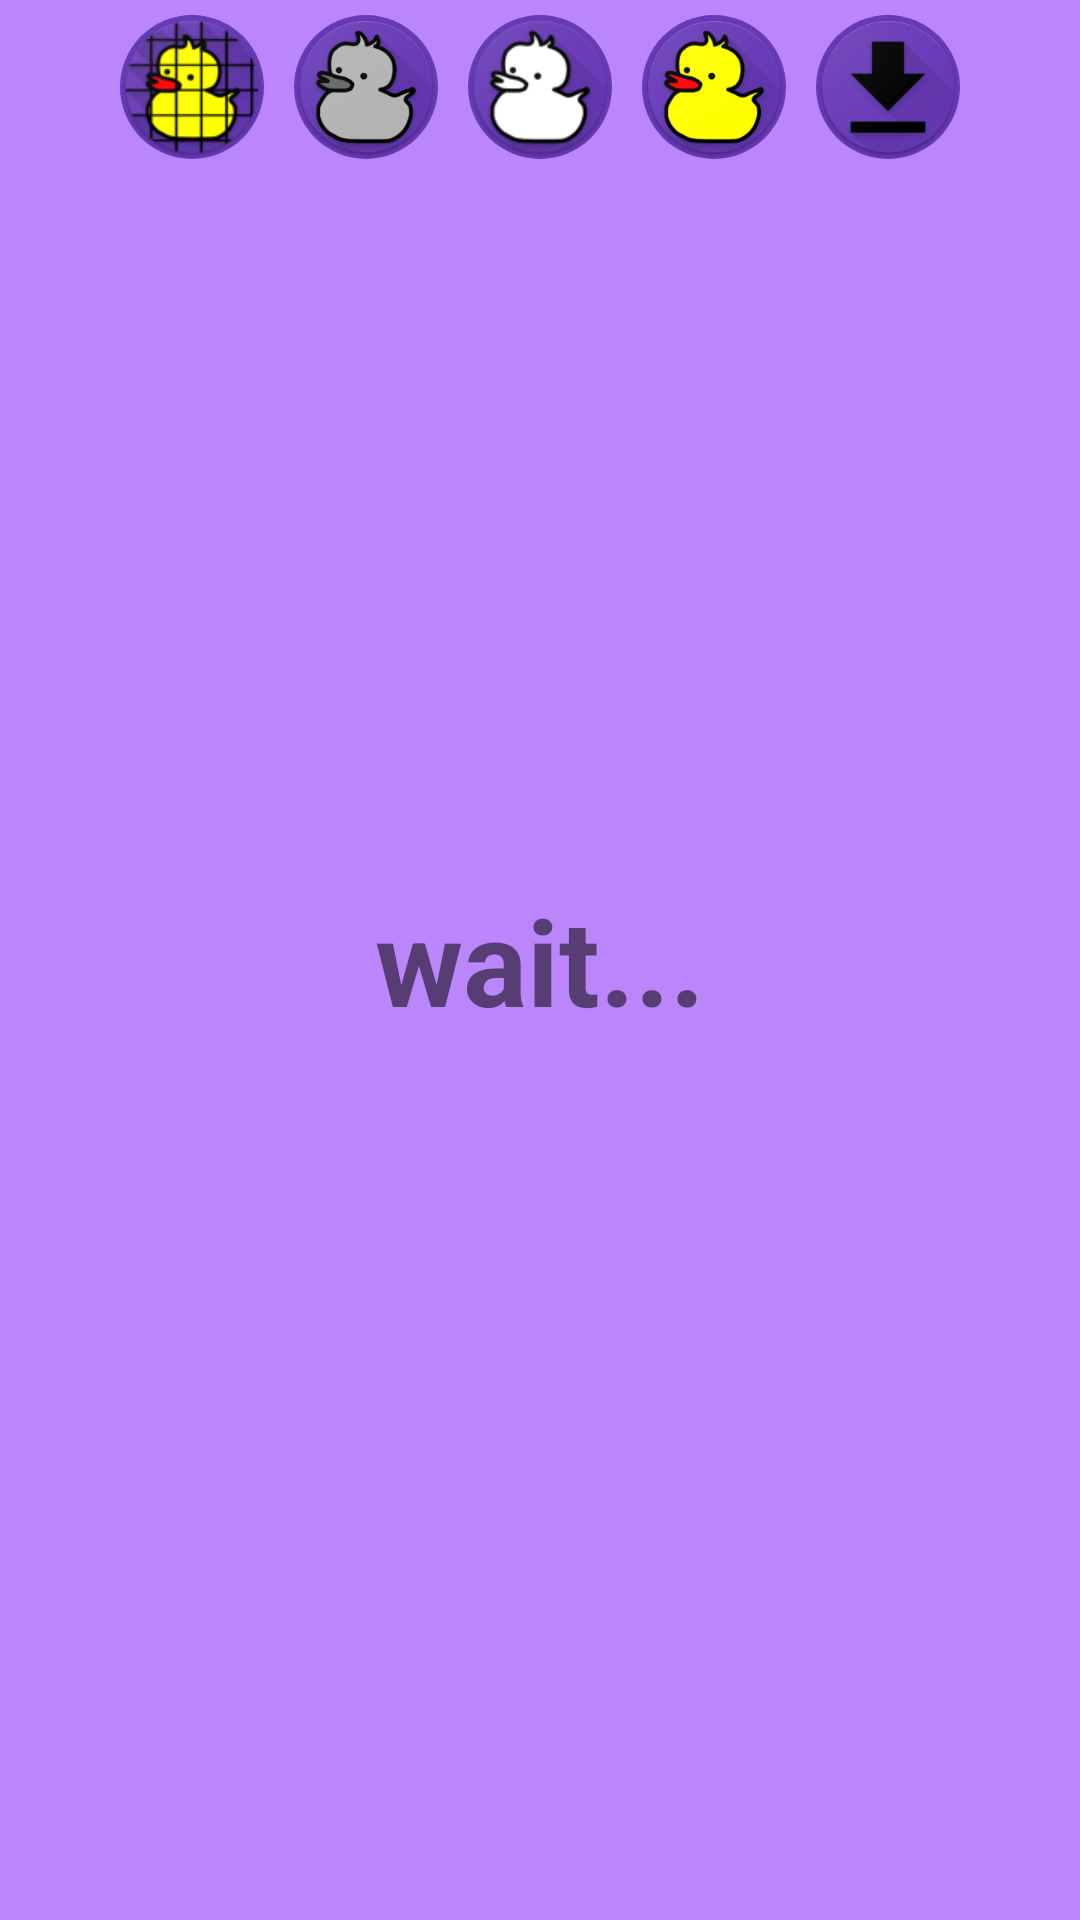

Icons on this 1080px×1920px Android screen, each with the point to tap as point (x, y):
contour: point (540, 87)
grid: point (192, 87)
original: point (714, 87)
save: point (888, 87)
sketch: point (366, 87)
